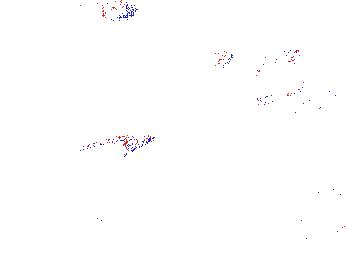X-ray fish: (63, 1, 138, 29)
glassfish: (79, 128, 157, 162)
redtail glassfish: (209, 42, 300, 72), (252, 92, 328, 114), (286, 45, 336, 78)
